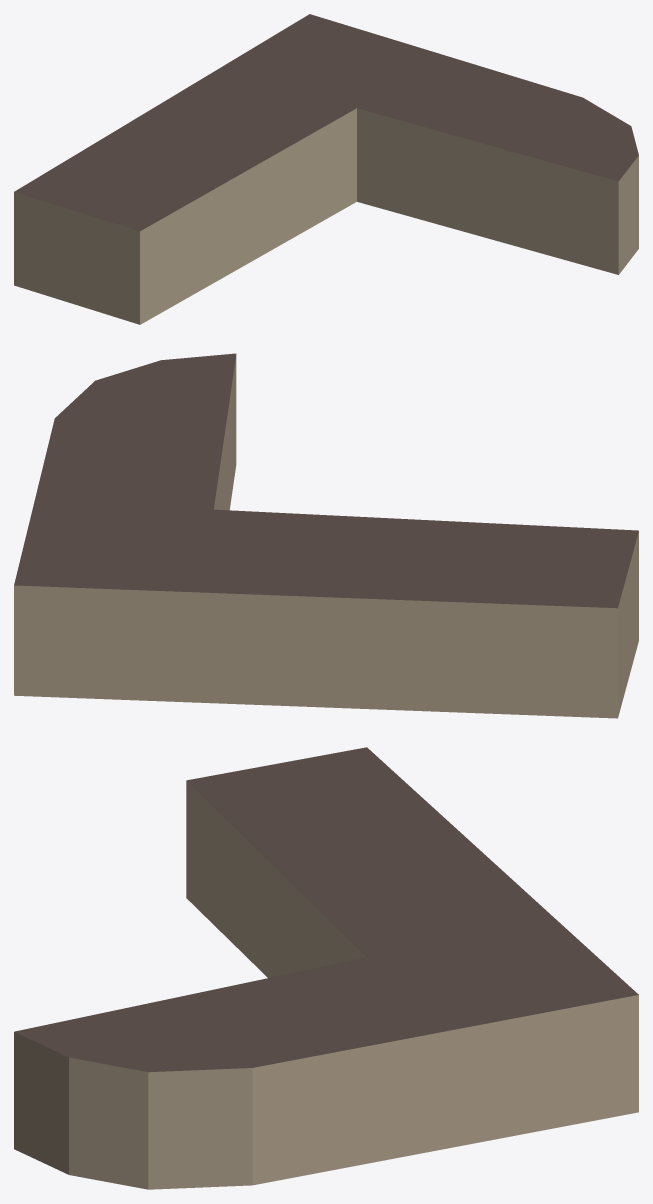
3 views of the same model, one above another, from view 1: azimuth 30°, elevation 25°; view 2: azimuth 150°, elevation 25°; view 3: azimuth 270°, elevation 25° (orthographic). The views are drawn at different scales.
Visible parts, largest first — view 1: HP-w1515076987; view 2: HP-w1515076987; view 3: HP-w1515076987.
Part boxes in pixels (x1,y1,x2,y2): HP-w1515076987: [14, 14, 638, 324]; HP-w1515076987: [14, 353, 638, 718]; HP-w1515076987: [14, 747, 638, 1189].
Size of the model in its own units: 53.38 by 9 by 43.38.
